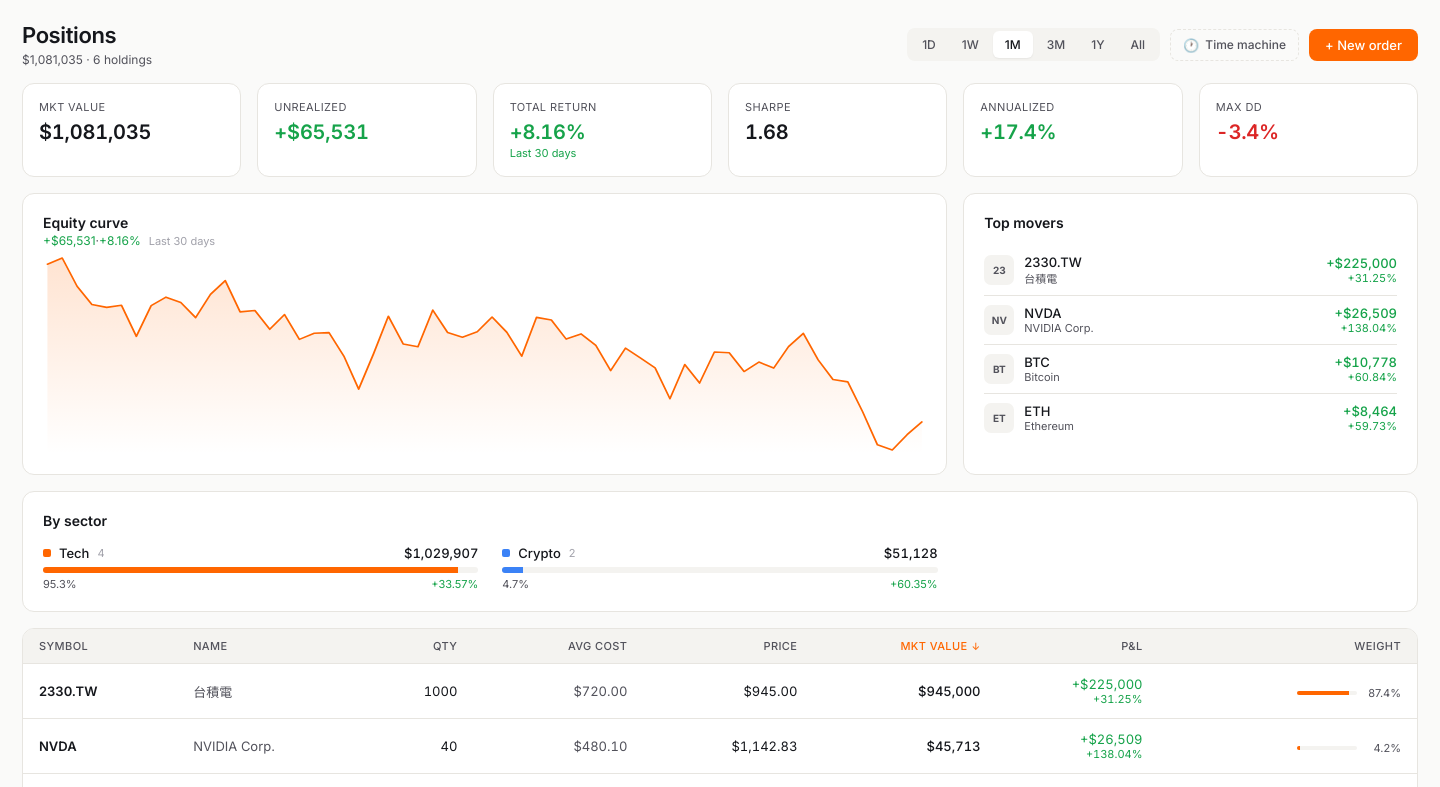
Positions — mock mode 回歸鎖定 › 時光機開啟後 scrubber 出現並改變表格呈現
This screenshot has width=1440, height=787.
Step 1. Click the button with class "btn-tm" → [1235, 44], box top-left (1170, 28), bottom-right (1299, 60)
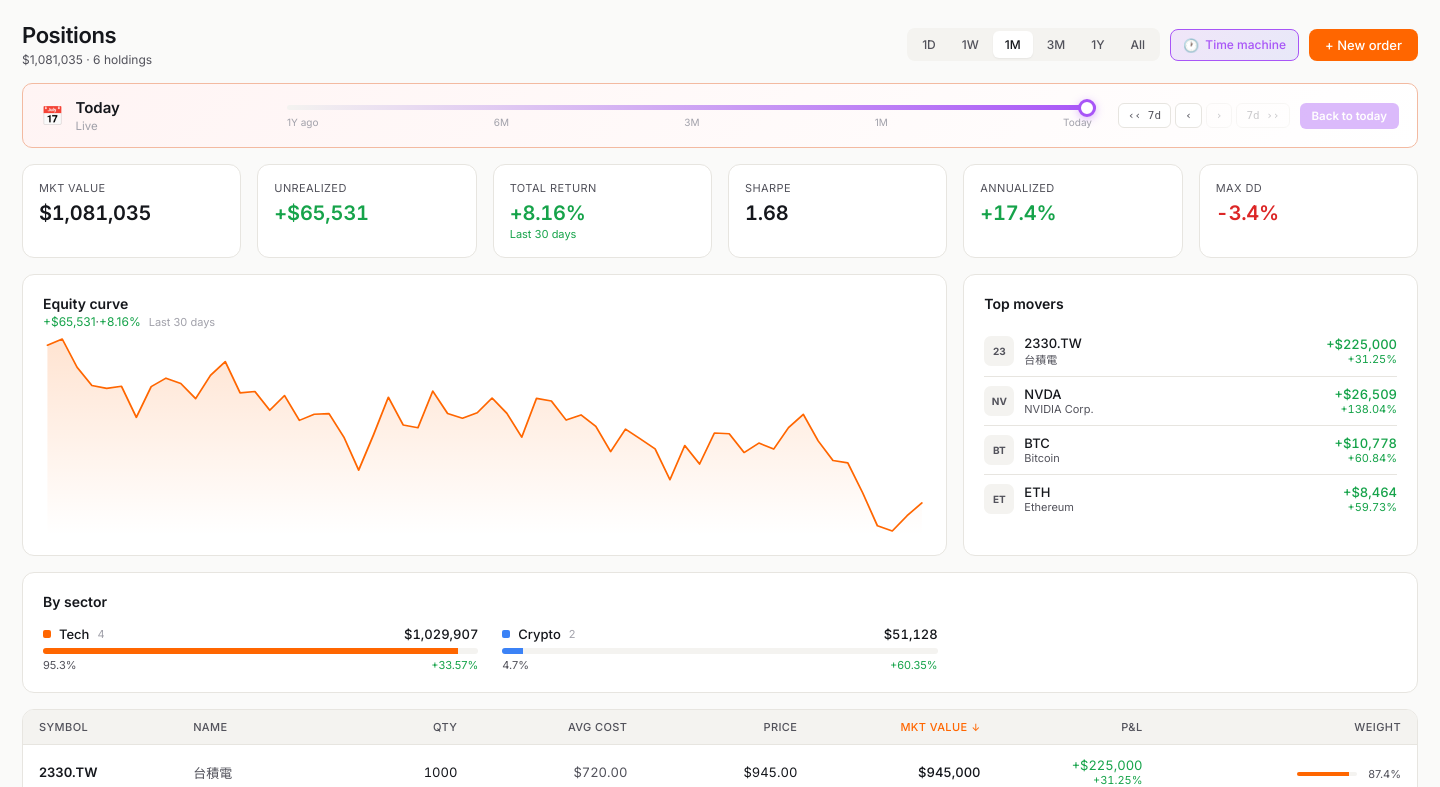
Now the element with class "tm-bar" is shown, box top-left (22, 83), bottom-right (1418, 148)
Now the slider with class "tm-slider" is shown, box top-left (287, 105), bottom-right (1096, 110)
